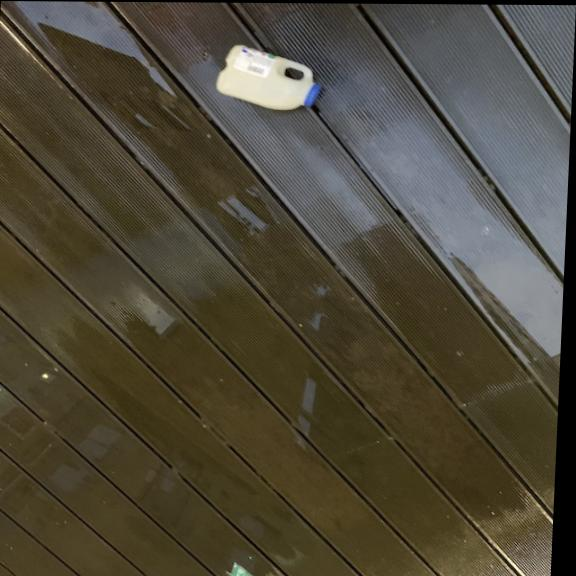Plastik: (206, 41, 330, 115)
